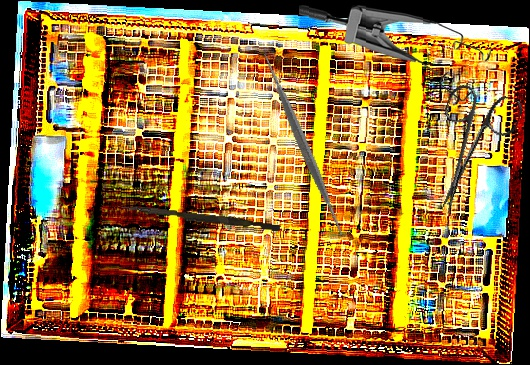Iris Scissors: (412, 78, 525, 225)
Pusher: (119, 204, 282, 232)
Spatula Surgical: (202, 43, 405, 245)
Speculum: (297, 4, 492, 102)
